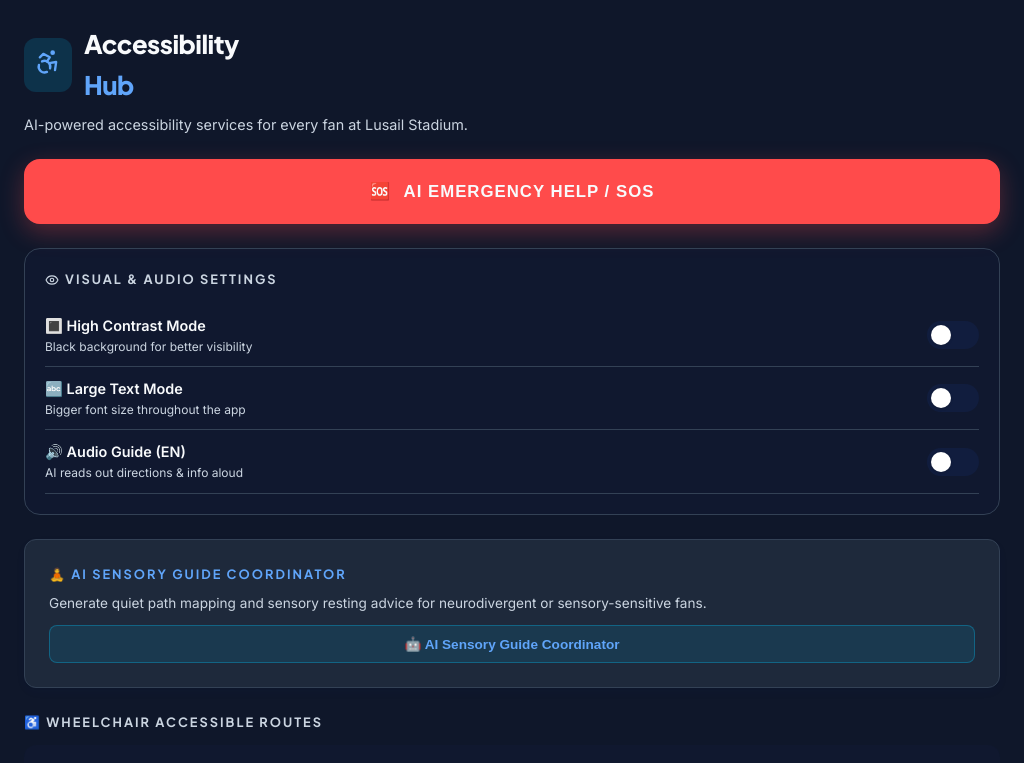
AccessibilityPage Component › generates dynamic AI accessibility calming routing guide successfully
Click the button "🤖 AI Sensory Guide Coordinator" at (512, 644), box [49, 625, 975, 663]
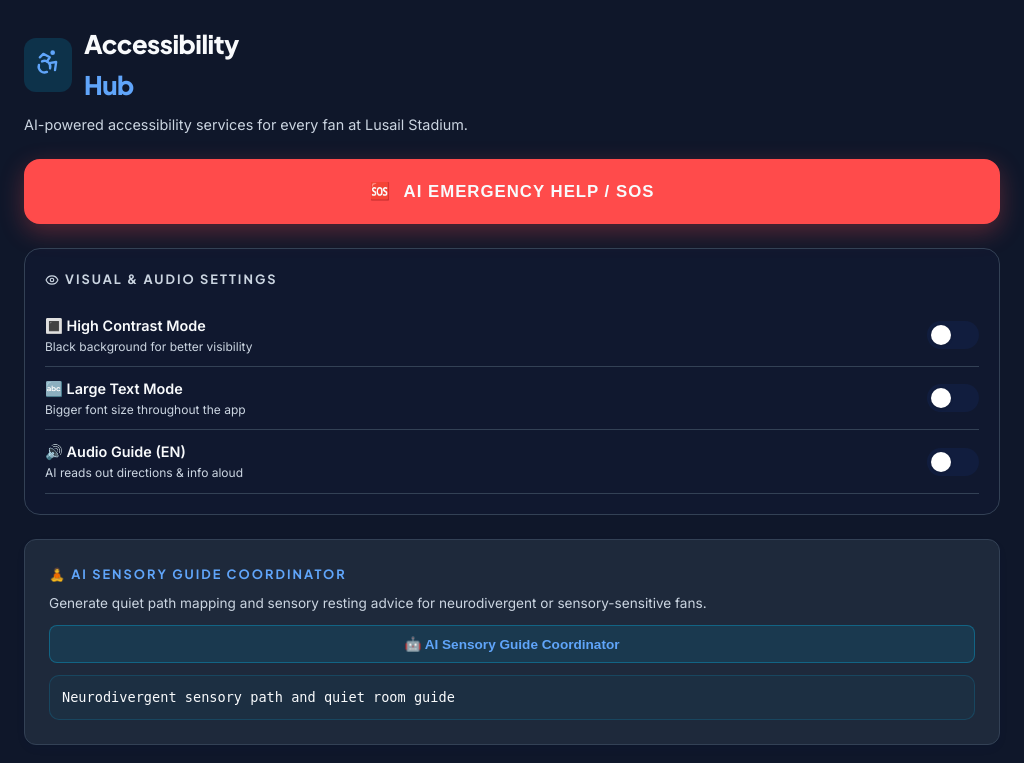
Check: the text "Neurodivergent sensory path and quiet room guide" is shown, box [49, 675, 975, 720]
